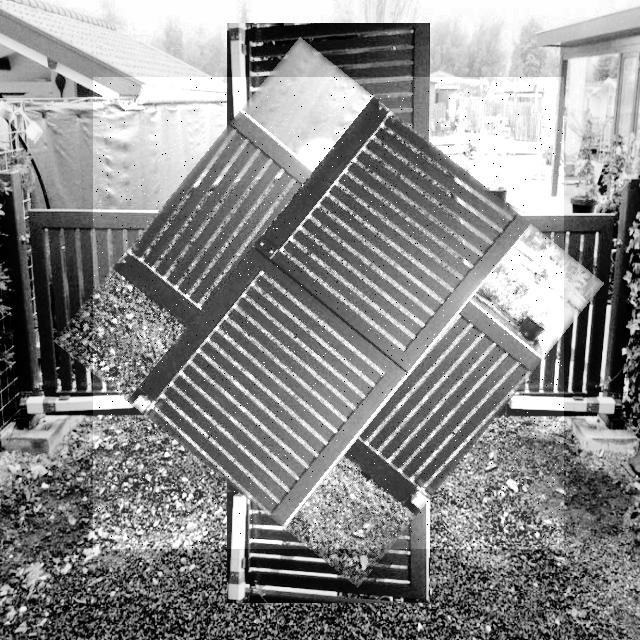fences: (93, 77, 564, 549)
